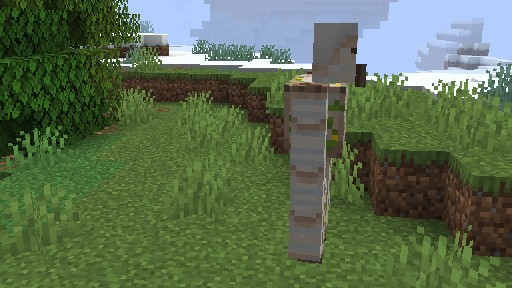iron_golem: (282, 22, 367, 264)
